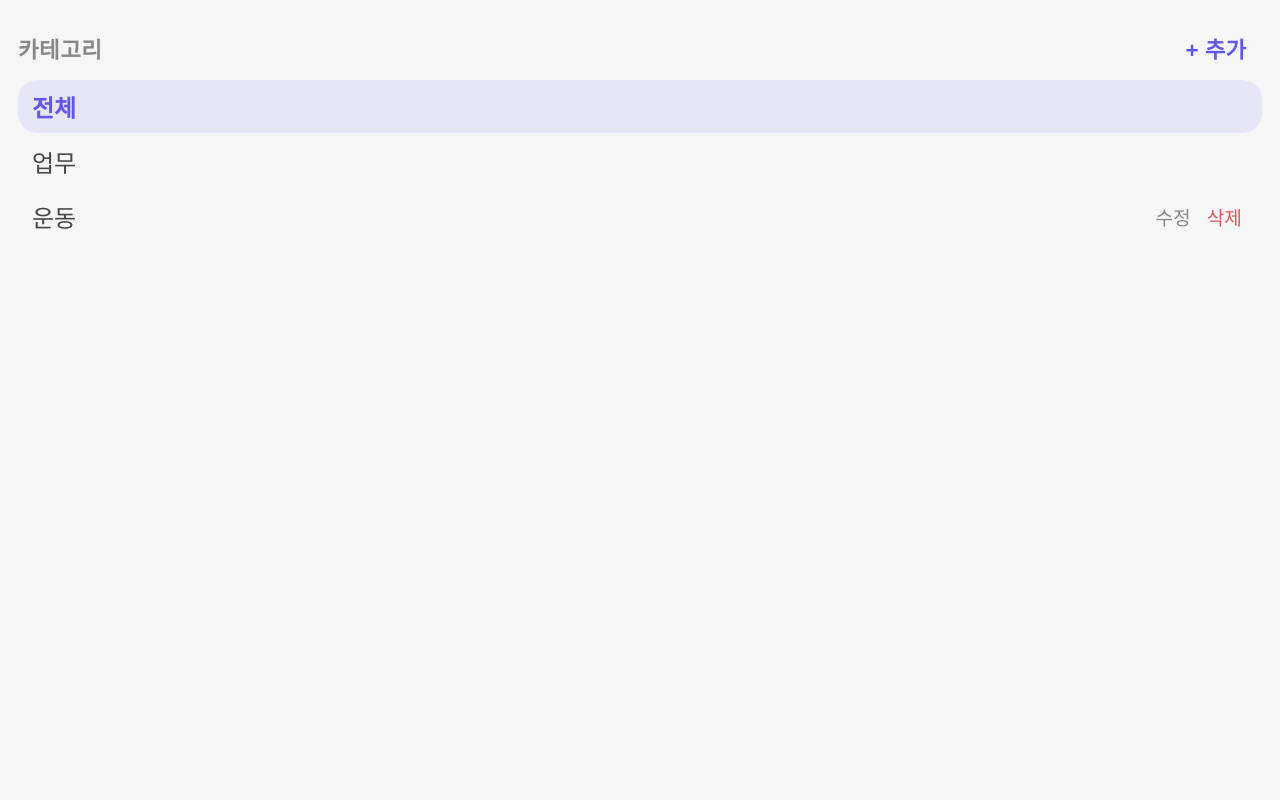
Test: CategoryList › 모달에서 취소 버튼 클릭 시 모달이 닫힌다
Click the button "+ 추가" at coordinates (1216, 48), box [1170,24,1262,72]
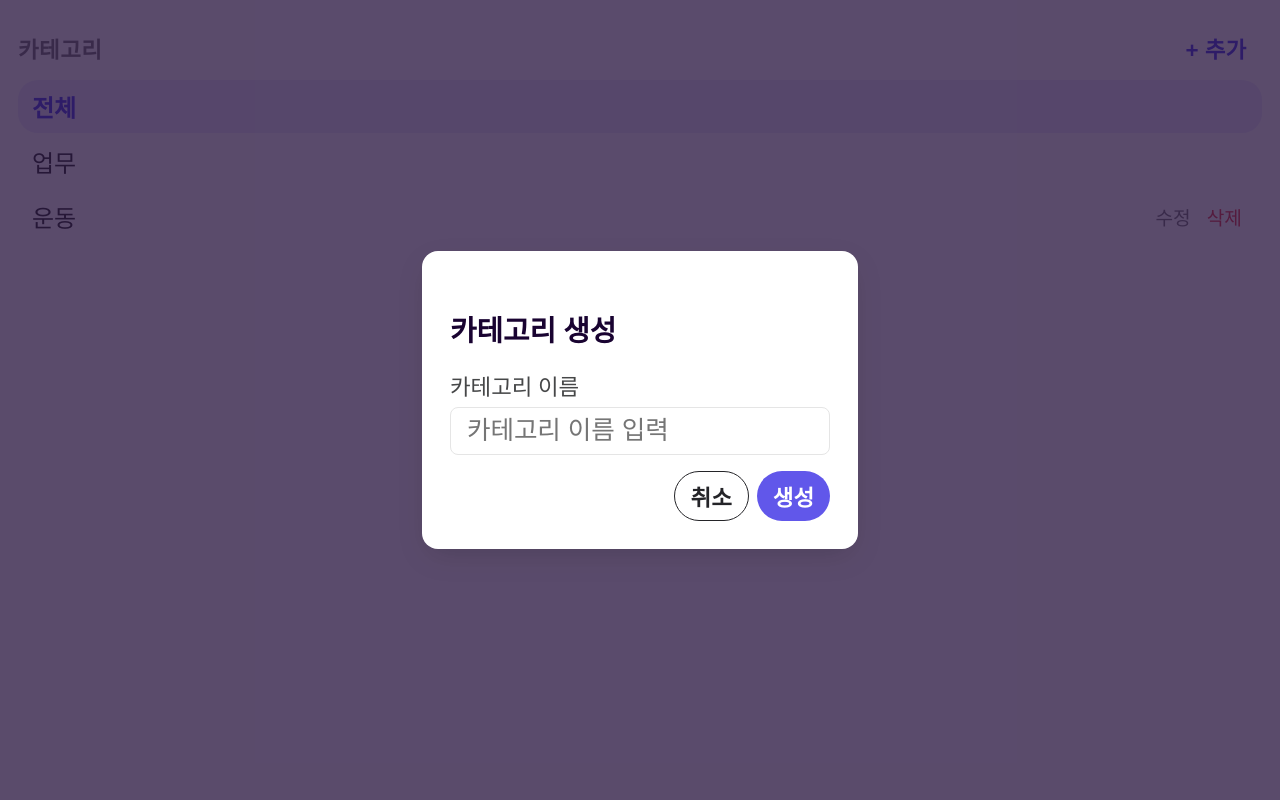
Click the button "취소" at coordinates (711, 496), box [674,471,749,521]
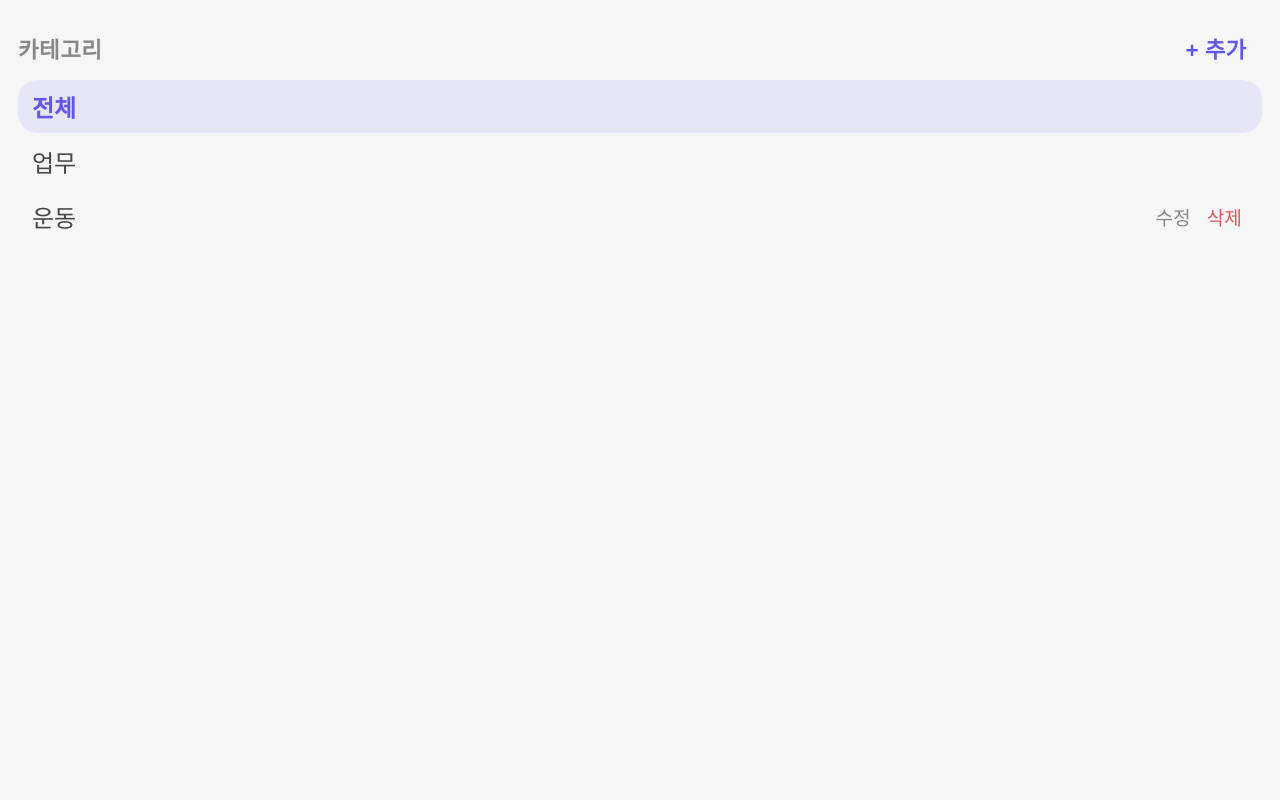
Expected: the dialog is gone
